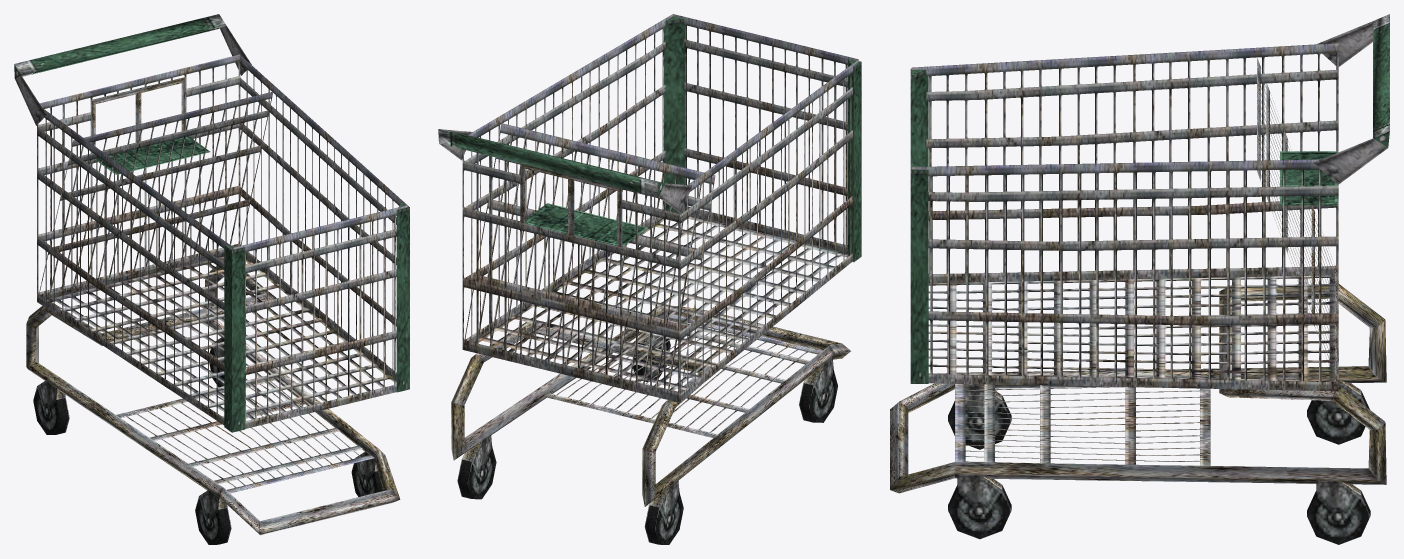
File: shopping_cart_metal.fbx
3 views of the same model, side by side, from view 1: azimuth 30°, elevation 25°; view 2: azimuth 150°, elevation 25°; view 3: azimuth 270°, elevation 25° (orthographic). The views are drawn at different scales.
Parts seen in each view (by area): view 1: mesh_0; view 2: mesh_0; view 3: mesh_0.
Boxes of the visible parts, left/top/right/bottom form: mesh_0: left=14, top=14, right=409, bottom=544; mesh_0: left=438, top=14, right=861, bottom=544; mesh_0: left=890, top=14, right=1389, bottom=544.
Size of the model in its own units: 65 by 108 by 117.
1 material, 1 textured.
